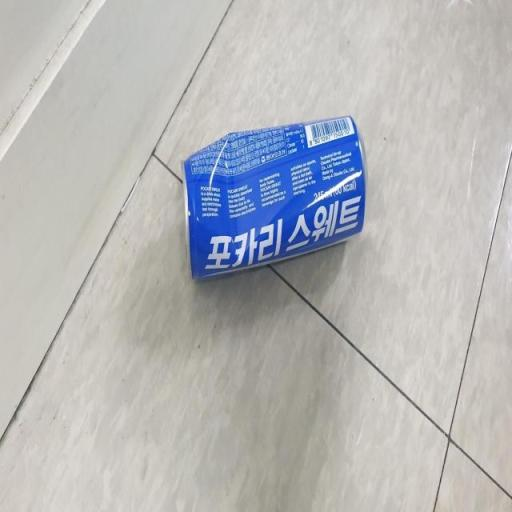metal: (161, 108, 392, 295)
